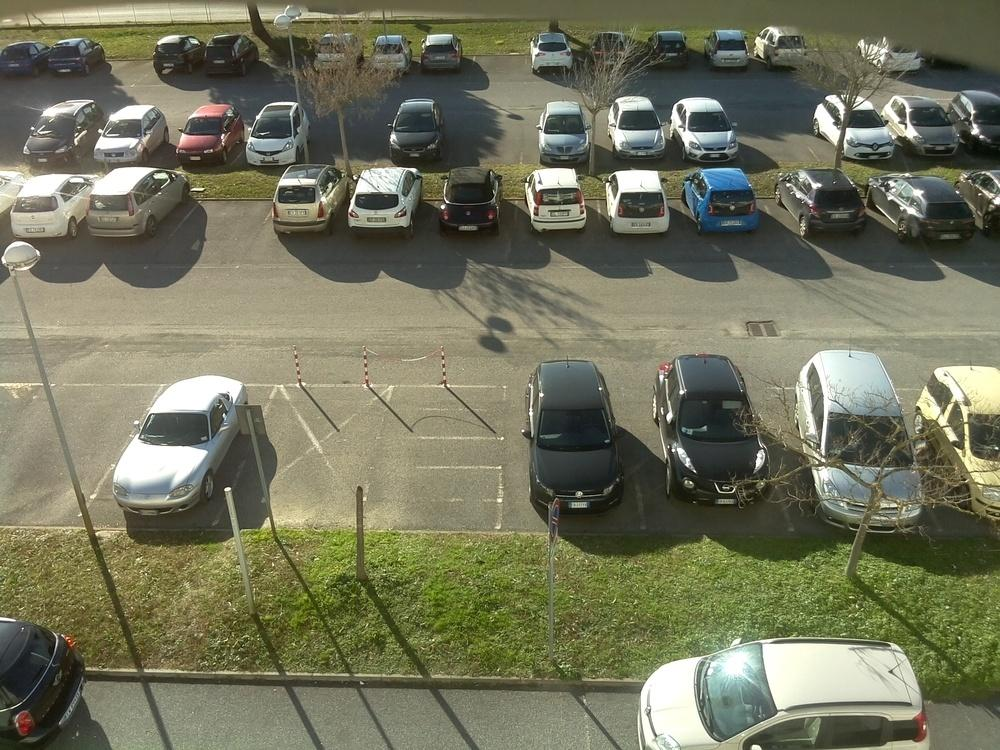empty: (642, 637, 946, 750), (653, 349, 787, 503), (107, 376, 250, 516), (524, 356, 637, 511), (793, 354, 931, 464), (4, 617, 81, 743), (868, 176, 984, 247), (76, 173, 188, 241), (933, 371, 997, 479), (781, 170, 875, 236), (680, 169, 772, 236), (85, 120, 168, 194), (339, 164, 424, 236), (600, 171, 682, 240), (430, 169, 510, 239), (6, 174, 88, 242), (668, 94, 750, 161), (18, 102, 101, 166), (168, 103, 248, 168), (888, 95, 969, 157), (380, 98, 454, 165), (92, 106, 170, 169), (270, 164, 341, 233), (599, 96, 672, 162), (238, 105, 312, 167), (523, 170, 594, 234), (828, 101, 899, 161), (532, 103, 600, 165), (194, 35, 269, 80), (754, 27, 818, 73), (36, 37, 102, 78), (955, 95, 1000, 154), (530, 31, 584, 77), (701, 28, 757, 72), (414, 32, 470, 74), (969, 172, 999, 246), (581, 31, 635, 71), (154, 35, 205, 76), (0, 44, 51, 81), (648, 32, 694, 66)
occupied: (240, 673, 517, 744), (4, 393, 119, 518), (183, 187, 271, 251), (458, 113, 529, 159), (802, 34, 871, 71), (746, 121, 806, 161), (346, 116, 391, 157), (476, 45, 524, 76), (109, 42, 152, 73), (3, 118, 31, 153)
